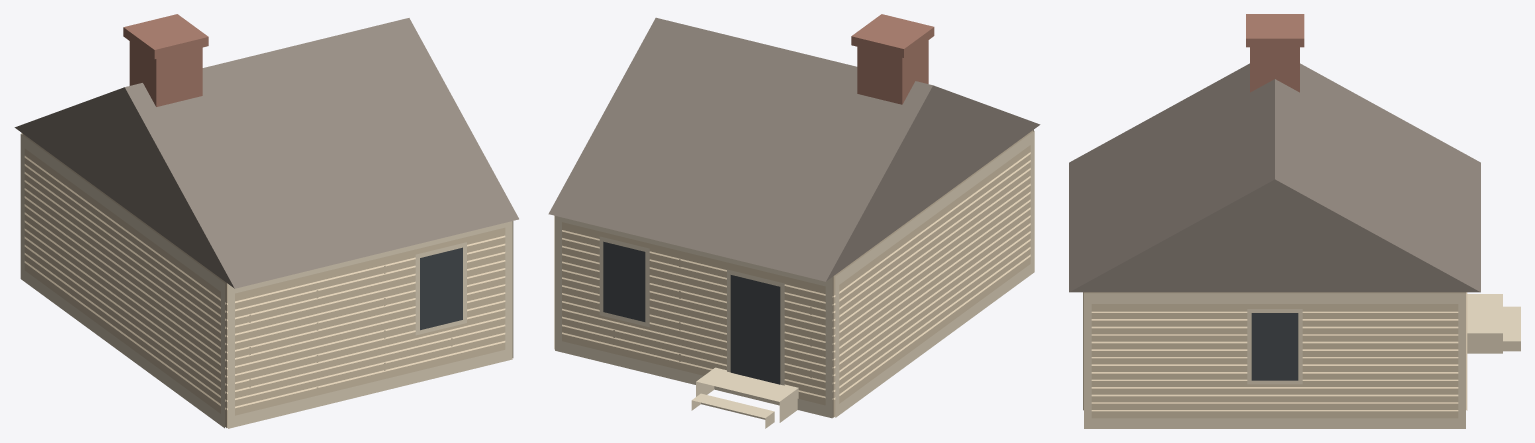
The model's file is recon_1835_blk_randolph_wells_d3_05__inferred_1835.glb.
The picture shows the model from 3 angles, left to right: view 1: azimuth 30°, elevation 25°; view 2: azimuth 150°, elevation 25°; view 3: azimuth 270°, elevation 25°; orthographic projection. The views are drawn at different scales.
Parts seen in each view (by area): view 1: recon_1835_blk_randolph_wells_d3_05__inferred_1835; view 2: recon_1835_blk_randolph_wells_d3_05__inferred_1835; view 3: recon_1835_blk_randolph_wells_d3_05__inferred_1835.
Part boxes in pixels (x1,y1,x2,y2): recon_1835_blk_randolph_wells_d3_05__inferred_1835: (14,14,518,428); recon_1835_blk_randolph_wells_d3_05__inferred_1835: (548,14,1040,428); recon_1835_blk_randolph_wells_d3_05__inferred_1835: (1069,14,1520,428).
Bounding box in the file's own units: 5.24 × 5.39 × 7.59.
